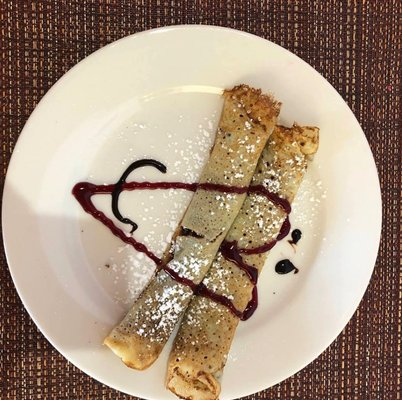curry: (4, 4, 401, 391)
